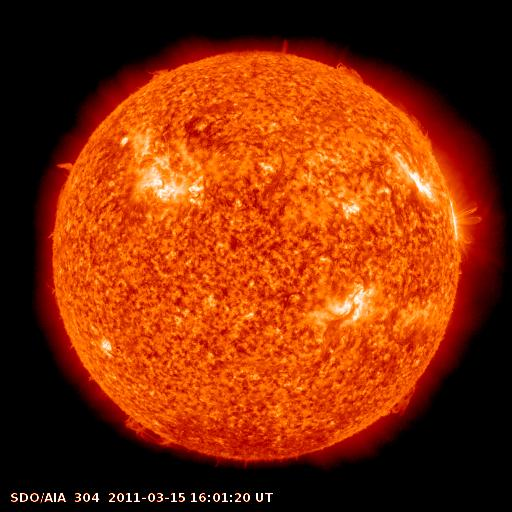prominence: (117, 411, 180, 455), (376, 380, 428, 429), (325, 49, 376, 92), (403, 102, 437, 157), (134, 59, 189, 90), (45, 146, 85, 185), (265, 30, 299, 63)
